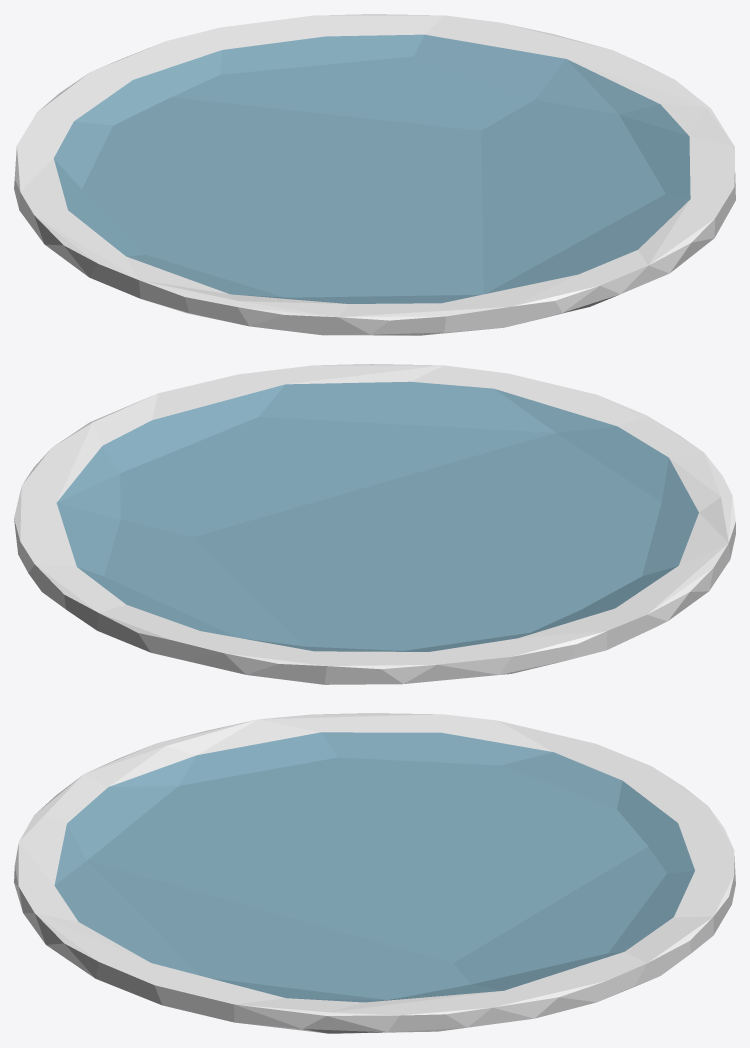
Rendered from PlateSmallWhite.fbx.
The picture shows the model from 3 angles, top to bottom: view 1: azimuth 30°, elevation 25°; view 2: azimuth 150°, elevation 25°; view 3: azimuth 270°, elevation 25°; orthographic projection.
Visible parts, largest first — view 1: PlateSmallLowPolyWhite; view 2: PlateSmallLowPolyWhite; view 3: PlateSmallLowPolyWhite.
Boxes of the visible parts, box(x1,y1,x2,y2) form: PlateSmallLowPolyWhite: box(14, 14, 735, 335); PlateSmallLowPolyWhite: box(14, 364, 735, 684); PlateSmallLowPolyWhite: box(14, 713, 735, 1033).
Size of the model in its own units: 15.48 by 1.31 by 15.46.
